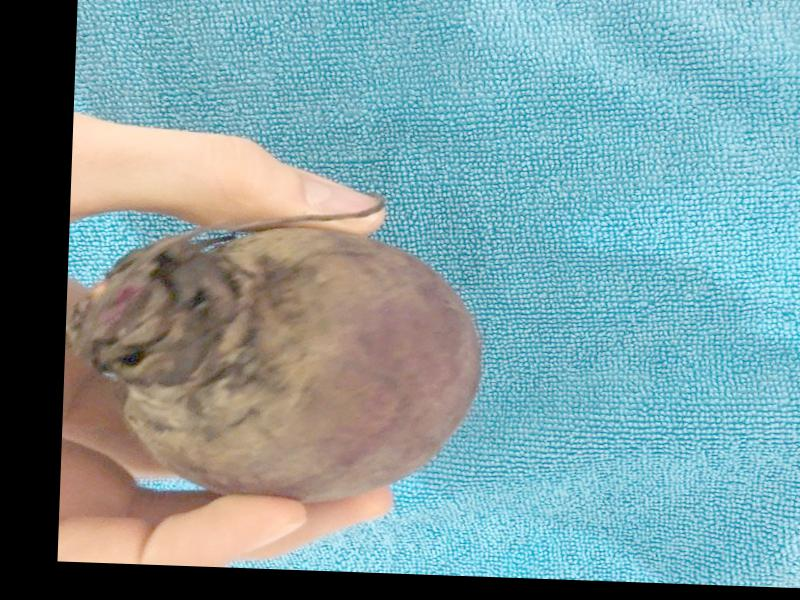Beet: (67, 184, 486, 508)
